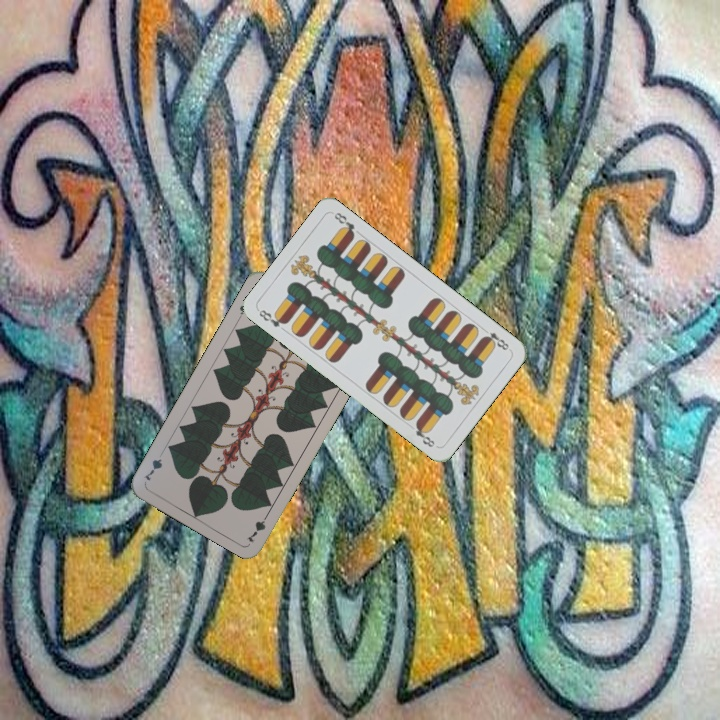E8: (478, 324, 512, 353), (255, 305, 290, 330)
G7: (243, 508, 272, 545)
